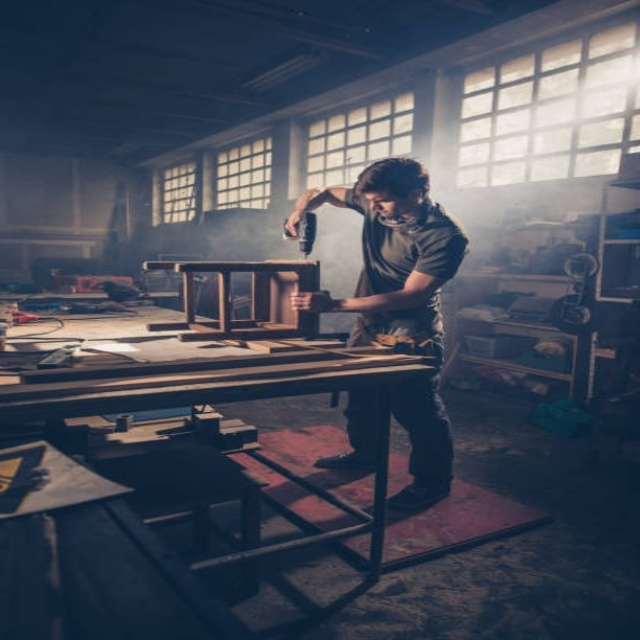Sin_gafas: (364, 194, 397, 210)
Sin_guantes: (290, 290, 338, 313), (283, 212, 309, 238)
